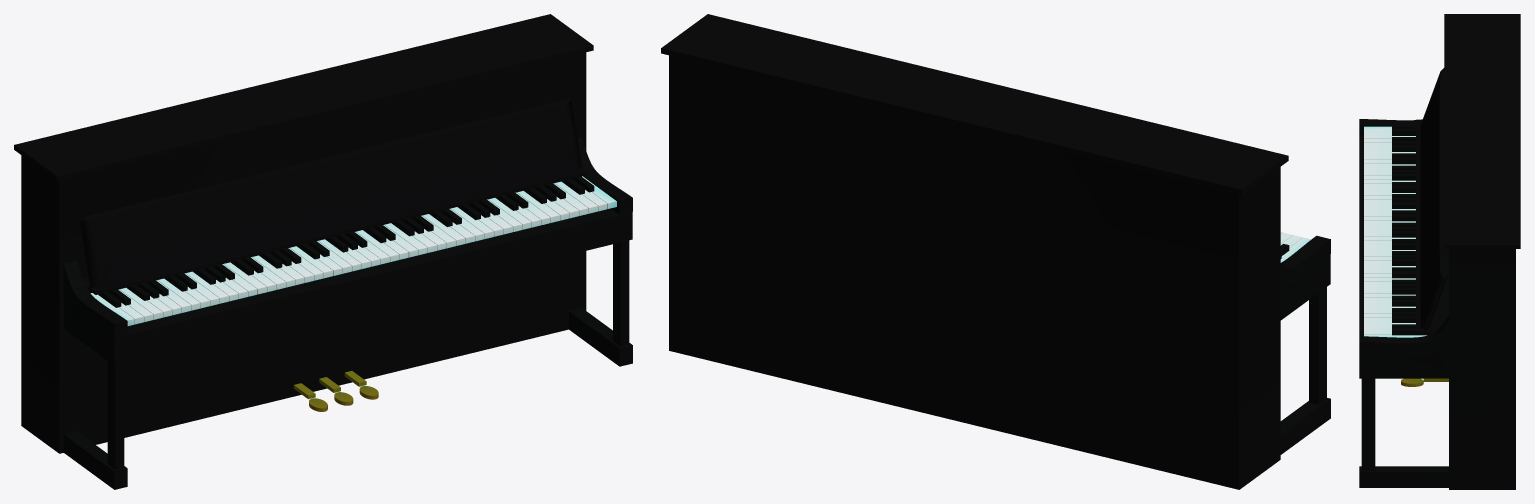
3 renders of one model, left to right at view 1: azimuth 30°, elevation 25°; view 2: azimuth 150°, elevation 25°; view 3: azimuth 270°, elevation 25°, orthographic. The views are drawn at different scales.
Parts seen in each view (by area): view 1: cabinet, inclined_panel, keyboard_case, curved_cheek.001, front_leg.003, front_leg, foot.003, foot, curved_cheek; view 2: cabinet, front_leg.003, keyboard_case, foot.003, curved_cheek.001; view 3: cabinet, inclined_panel, keyboard_case, foot, curved_cheek, front_leg, curved_cheek.001, pedal_stem.003, short_key.036, short_key.006, short_key.009, short_key.016 (+3 smaller).
Boxes of the visible parts, x1,y1,x2,y2 form: cabinet: [14, 14, 593, 453]; inclined_panel: [79, 100, 587, 294]; keyboard_case: [64, 163, 632, 365]; curved_cheek.001: [63, 260, 127, 337]; front_leg.003: [107, 361, 124, 469]; front_leg: [613, 240, 629, 346]; foot.003: [63, 431, 127, 489]; foot: [569, 308, 632, 366]; curved_cheek: [577, 137, 632, 214]; cabinet: [661, 14, 1288, 489]; front_leg.003: [1309, 287, 1326, 404]; keyboard_case: [1280, 254, 1330, 320]; foot.003: [1280, 398, 1330, 454]; curved_cheek.001: [1280, 235, 1330, 290]; cabinet: [1444, 14, 1520, 489]; inclined_panel: [1416, 68, 1448, 334]; keyboard_case: [1359, 136, 1448, 378]; foot: [1359, 466, 1448, 487]; curved_cheek: [1359, 316, 1448, 353]; front_leg: [1361, 378, 1375, 470]; curved_cheek.001: [1359, 119, 1422, 136]; pedal_stem.003: [1401, 378, 1448, 386]; short_key.036: [1392, 328, 1429, 335]; short_key.006: [1392, 157, 1415, 164]; short_key.009: [1392, 173, 1415, 180]; short_key.016: [1392, 214, 1415, 221].
Bounding box in the file's own units: 1.5 × 0.749 × 0.4425.
